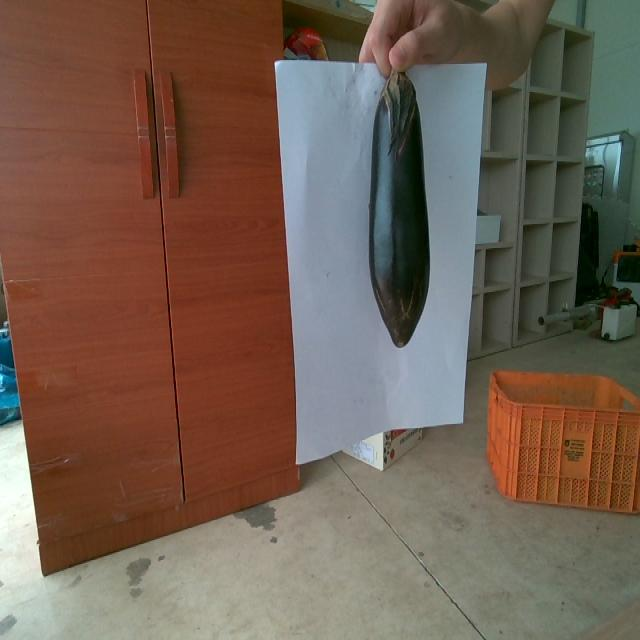Egg plant: (369, 71, 429, 347)
